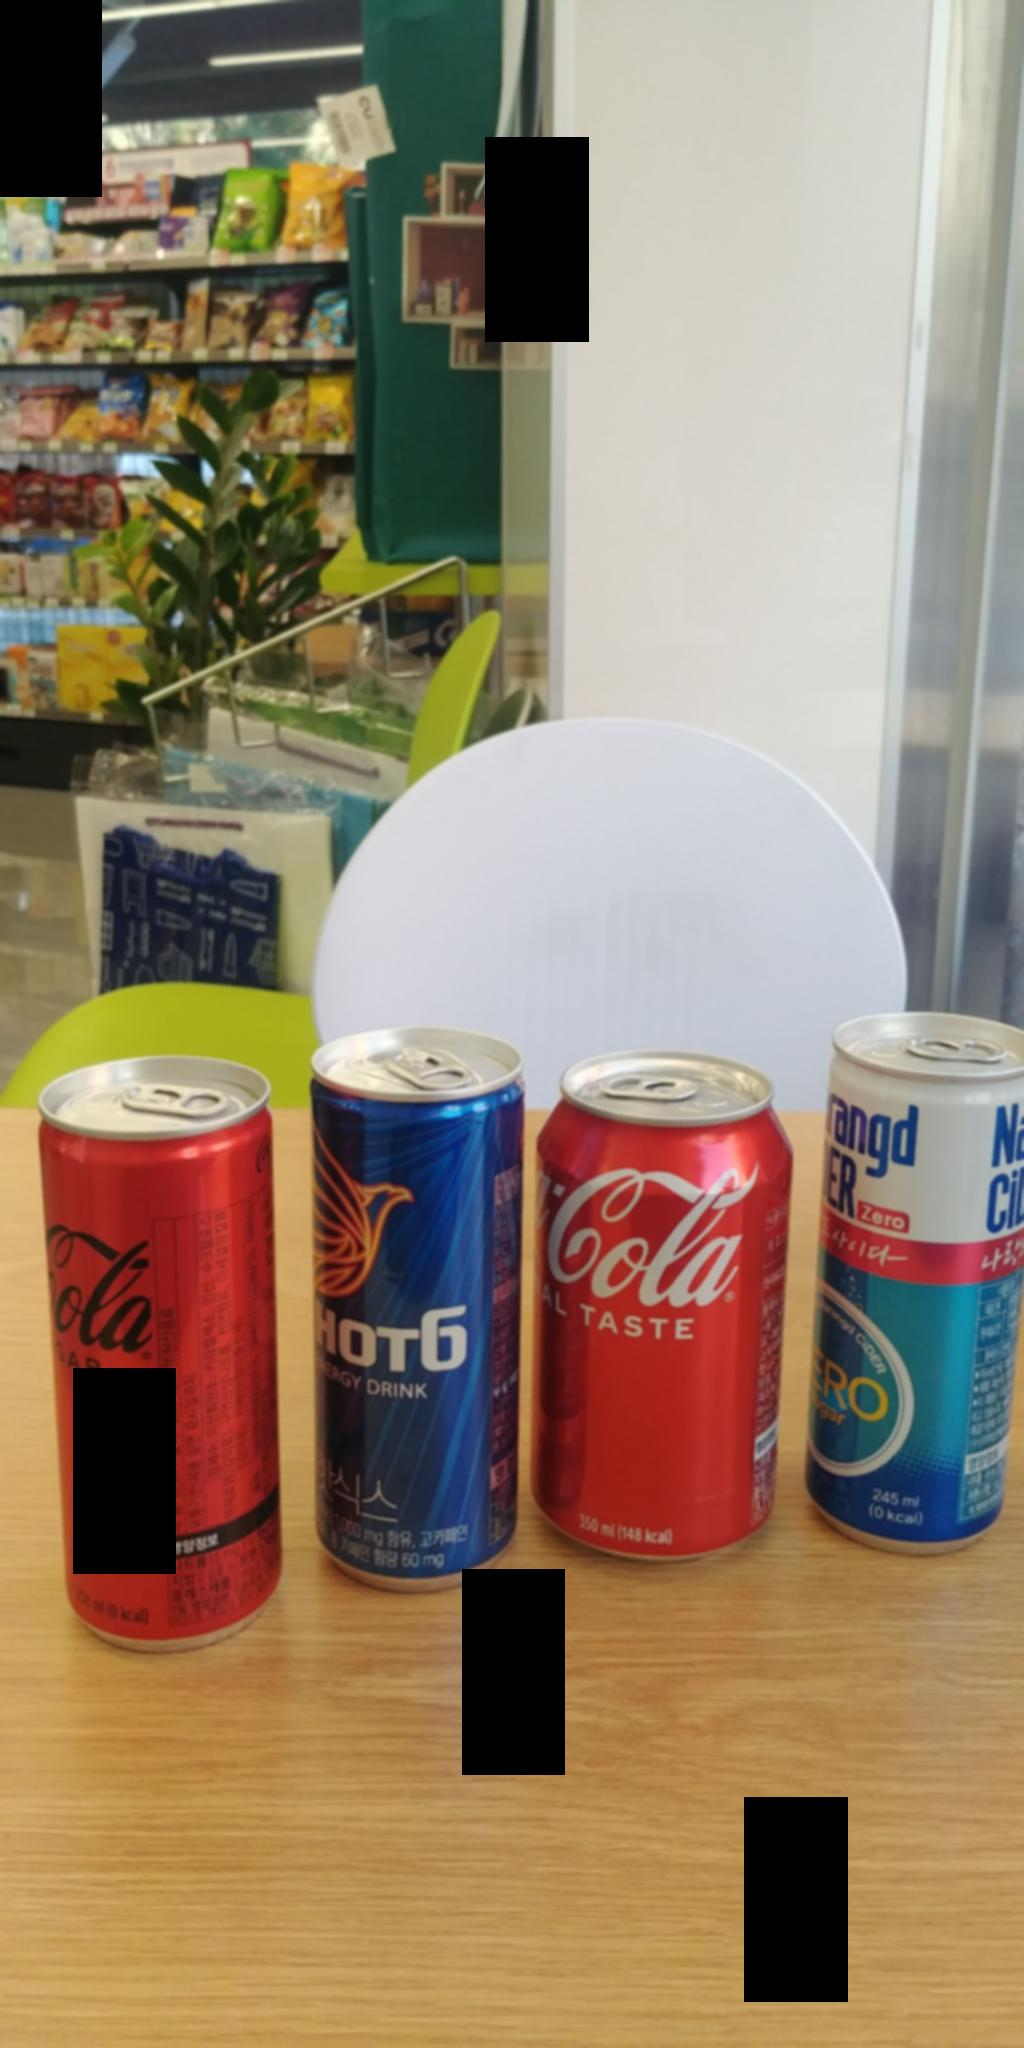cocacola: (533, 1053, 778, 1560)
hotsix_org: (327, 999, 499, 1587)
narangdcider: (819, 1024, 1006, 1532)
